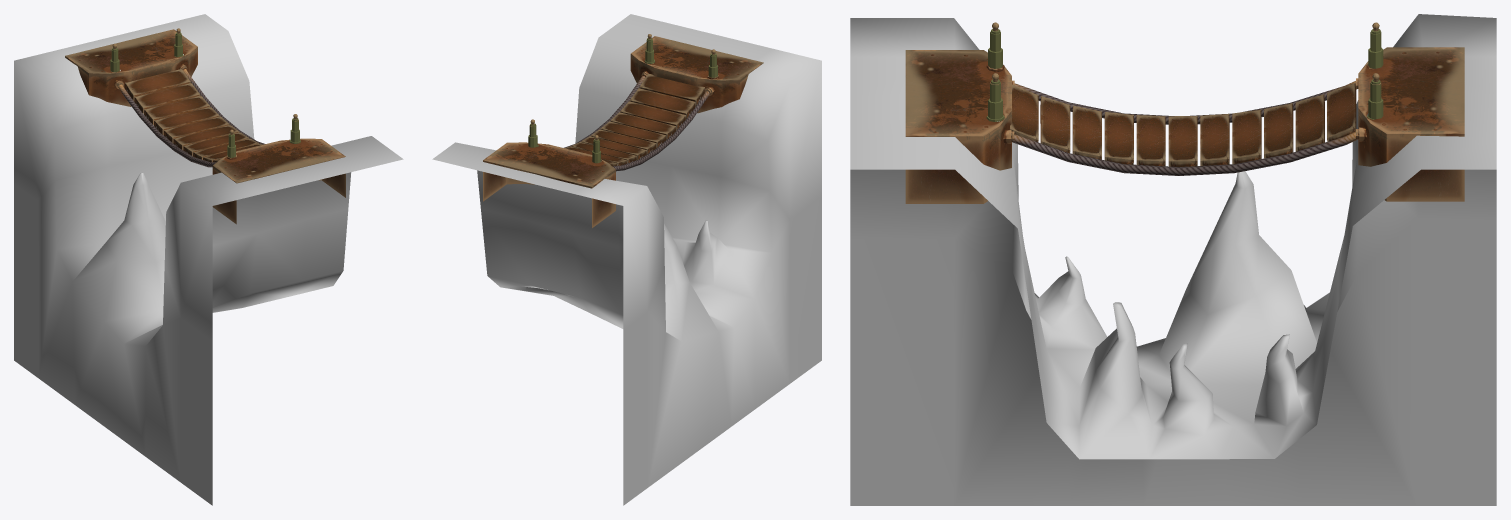
Rendered from f_bridge_01.fbx.
3 views of the same model, side by side, from view 1: azimuth 30°, elevation 25°; view 2: azimuth 150°, elevation 25°; view 3: azimuth 270°, elevation 25° (orthographic). The views are drawn at different scales.
Parts seen in each view (by area): view 1: f_bridge_01; view 2: f_bridge_01; view 3: f_bridge_01.
Part boxes in pixels (<box>): f_bridge_01: <box>14,14,403,505</box>; f_bridge_01: <box>432,14,821,505</box>; f_bridge_01: <box>850,14,1496,505</box>.
Size of the model in its own units: 10.15 by 16.4 by 18.
